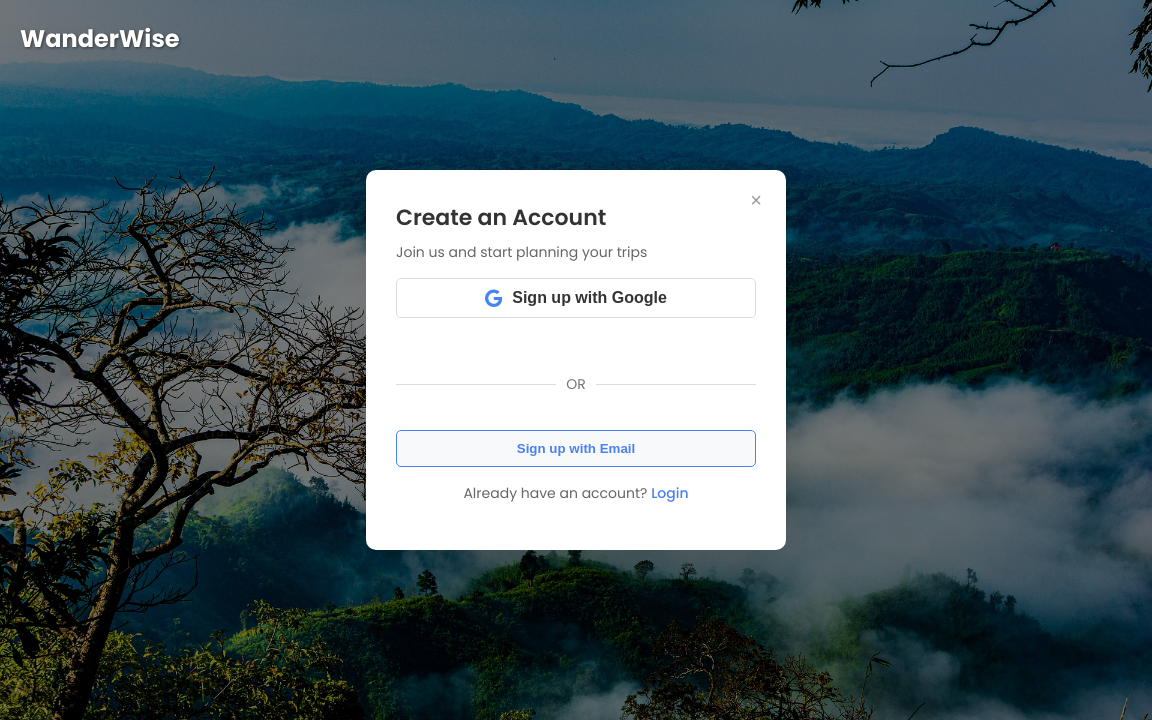
Test: Authentication Integration Tests › Signup Flow Integration › signup with mismatched passwords shows validation error
Click the button "Sign up with Email" at point(576, 449), box [396,430,756,467]
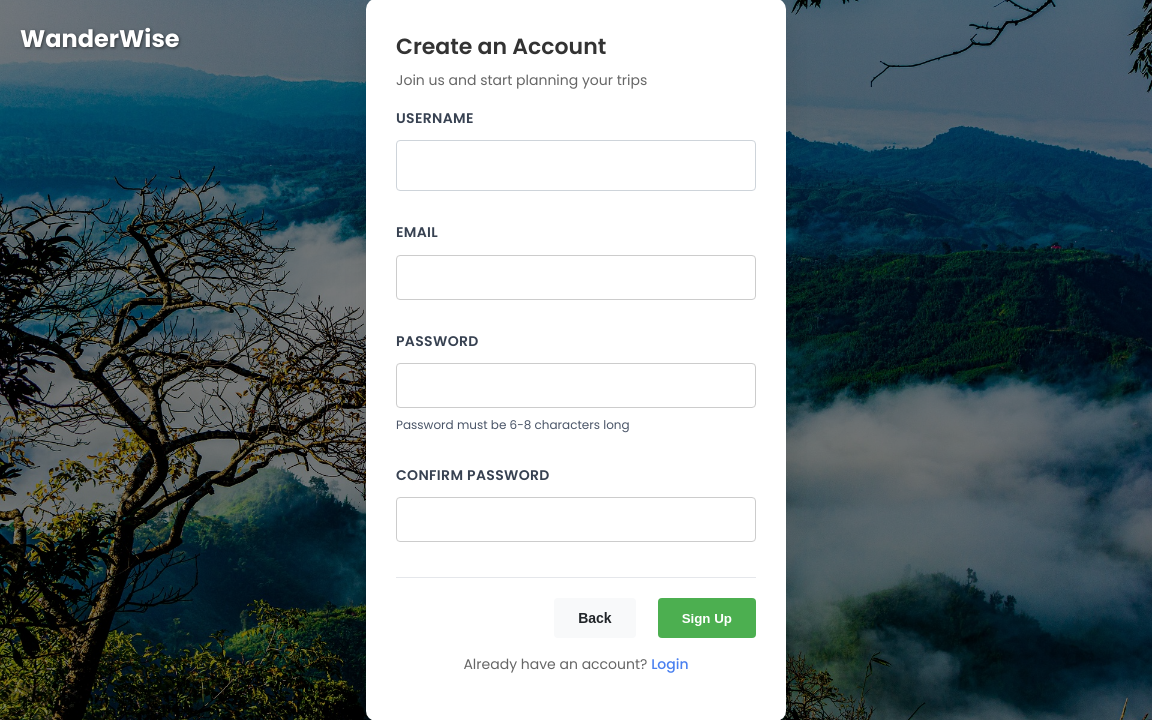
Type "testuser" into the field labelled "Username" at point(576, 166), box [396,140,756,191]
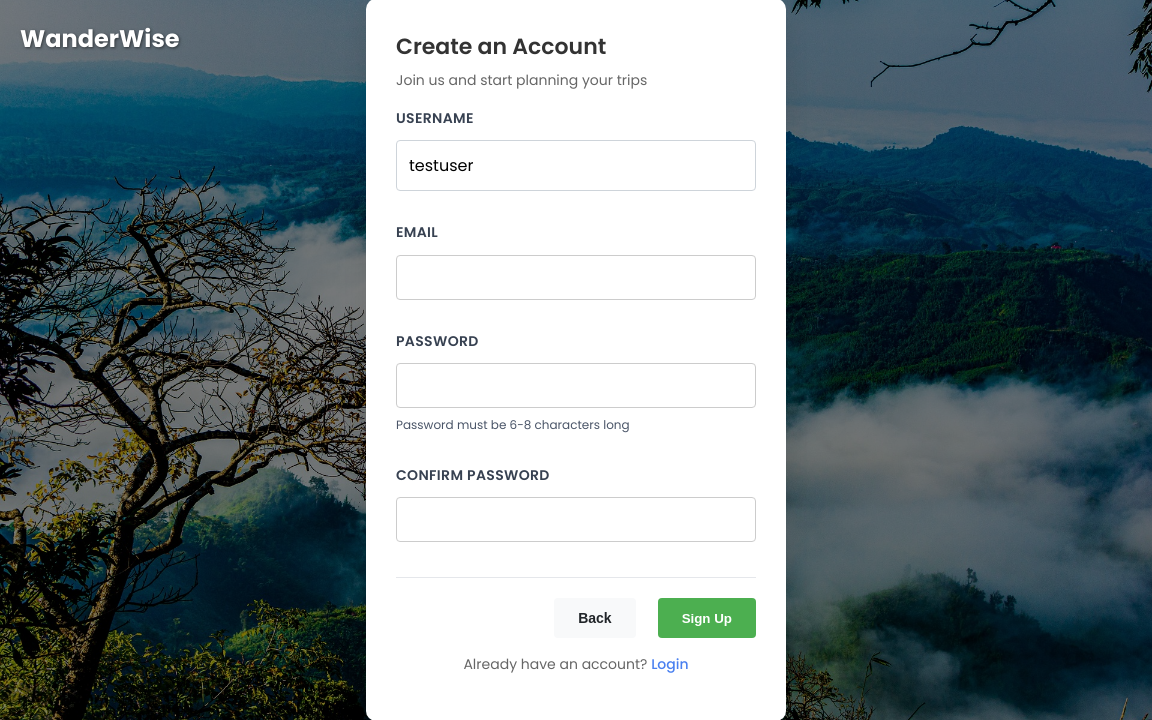
Type "test@example.com" into the field labelled "Email" at point(576, 277), box [396,254,756,300]
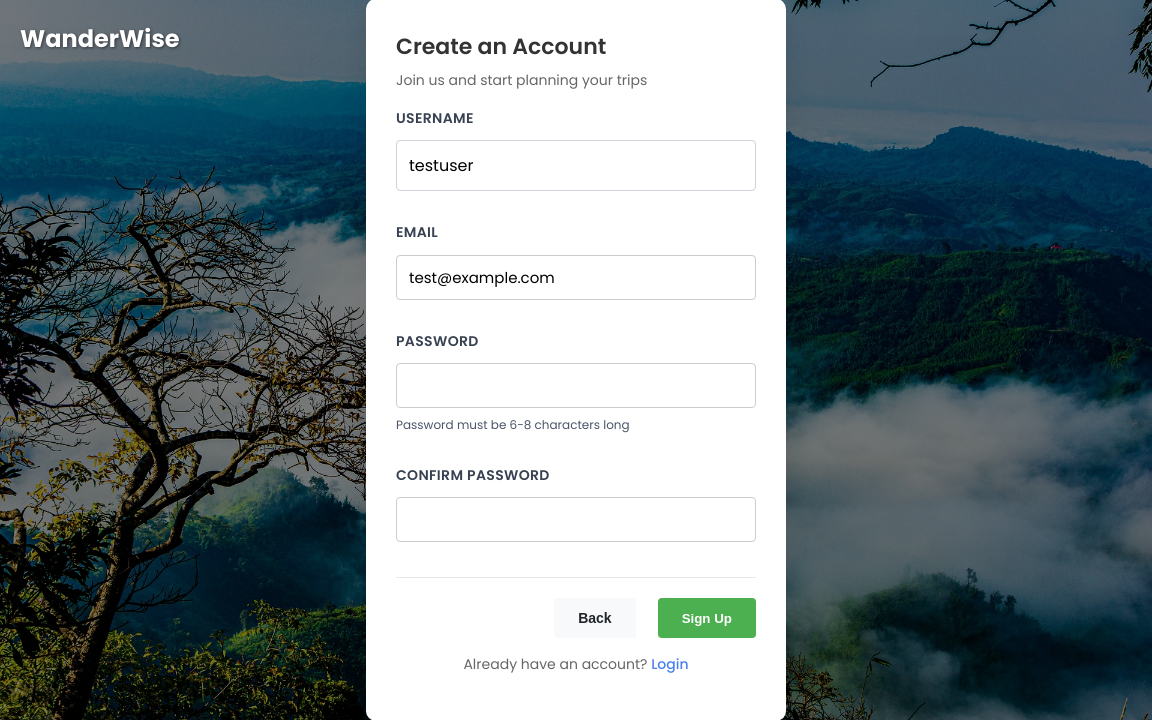
Type "pass123" into the password field labelled "Password" at point(576, 385), box [396,363,756,408]
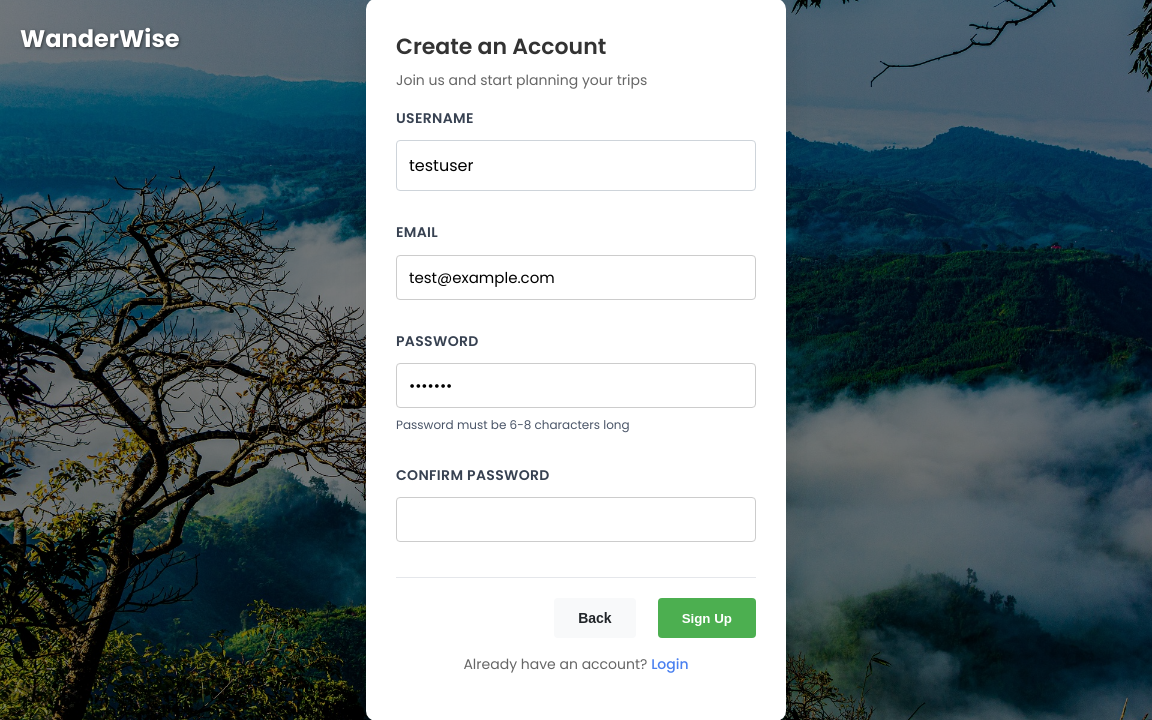
Type "different" into the password field labelled "Confirm Password" at point(576, 520), box [396,498,756,542]
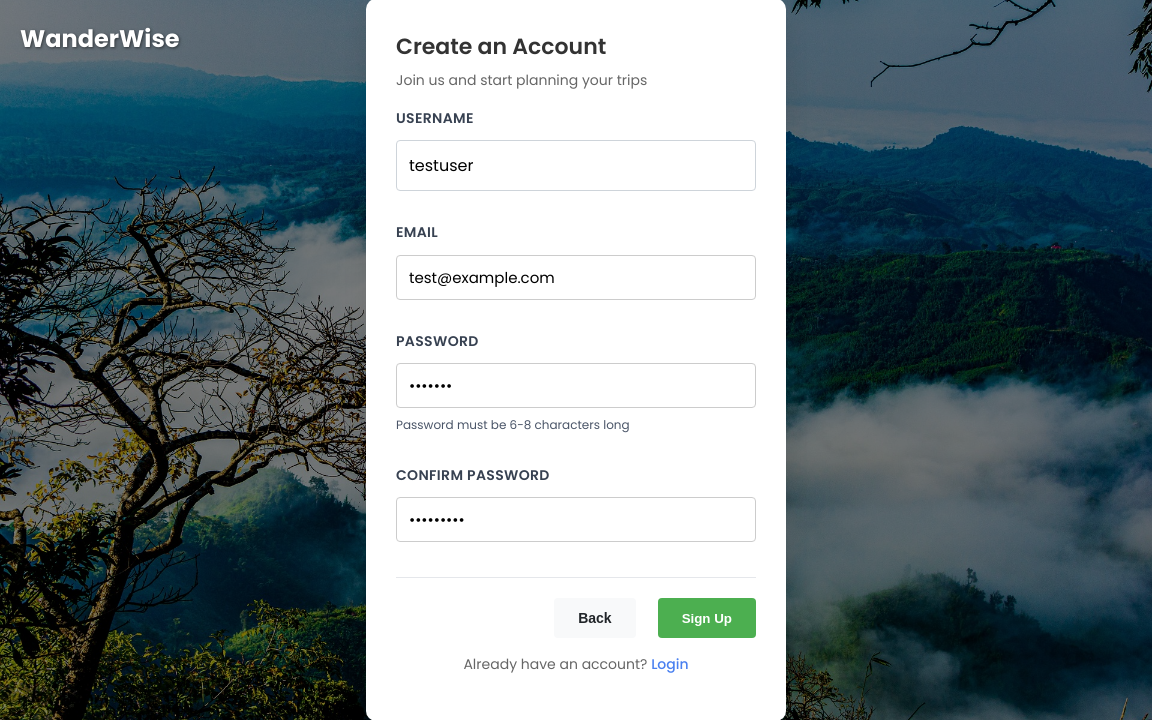
Click the button "Sign Up" at point(707, 618), box [658,598,756,638]
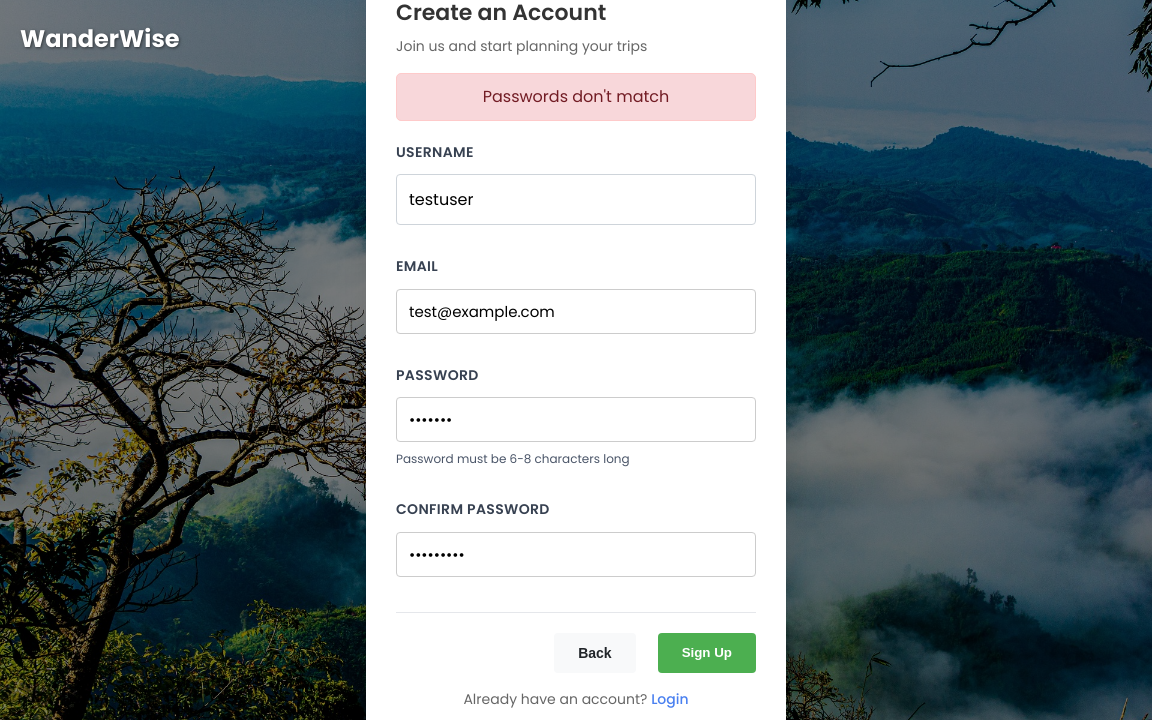
Result: the text "Passwords don't match" is shown at [396,73,756,121]
